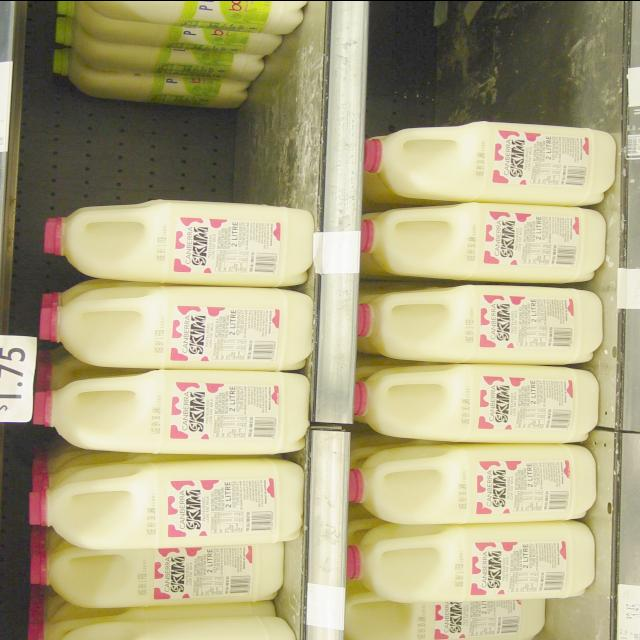empty_space: (46, 81, 281, 195), (387, 11, 605, 113)
